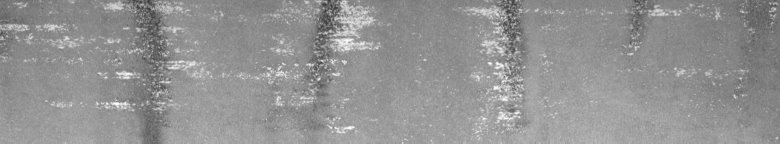hc: (257, 4, 378, 133)
